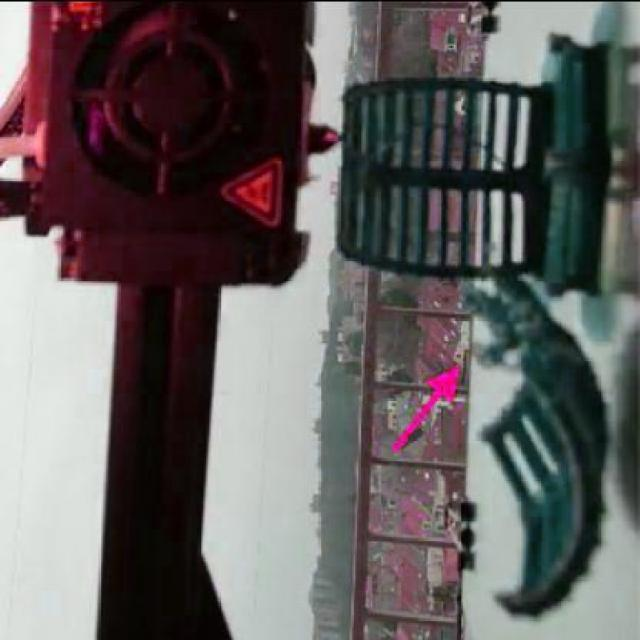spaghetti: (455, 266, 548, 371)
